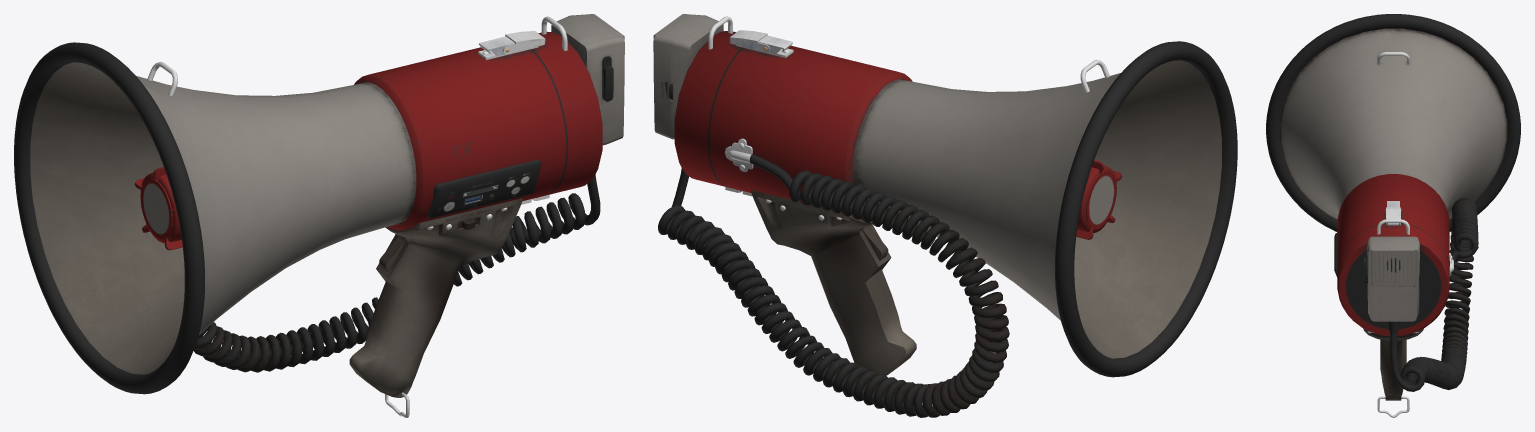
File: megaphone.glb
3 renders of one model, left to right at view 1: azimuth 30°, elevation 25°; view 2: azimuth 150°, elevation 25°; view 3: azimuth 270°, elevation 25°, orthographic. The views are drawn at different scales.
Parts seen in each view (by area): view 1: Megaphone_01_0; view 2: Megaphone_01_0; view 3: Megaphone_01_0.
Boxes of the visible parts, left/top/right/bottom form: Megaphone_01_0: left=14, top=14, right=624, bottom=417; Megaphone_01_0: left=653, top=14, right=1237, bottom=417; Megaphone_01_0: left=1266, top=14, right=1520, bottom=417.
Size of the model in its own units: 0.3707 by 0.3001 by 0.2285.
Materials: 1 (1 with a texture image).
